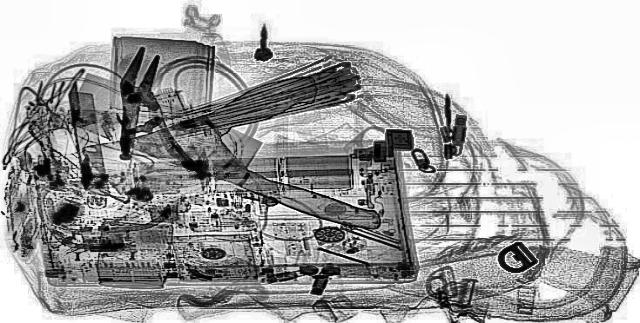Knife: (25, 70, 419, 240), (56, 73, 378, 204)
